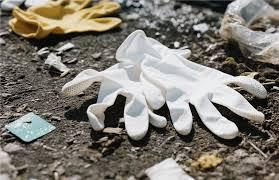Glove: (116, 30, 266, 138), (62, 62, 166, 139), (9, 0, 120, 38), (1, 0, 50, 10), (1, 0, 24, 10)
